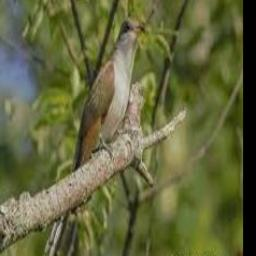Cuckoo: (44, 18, 145, 256)
